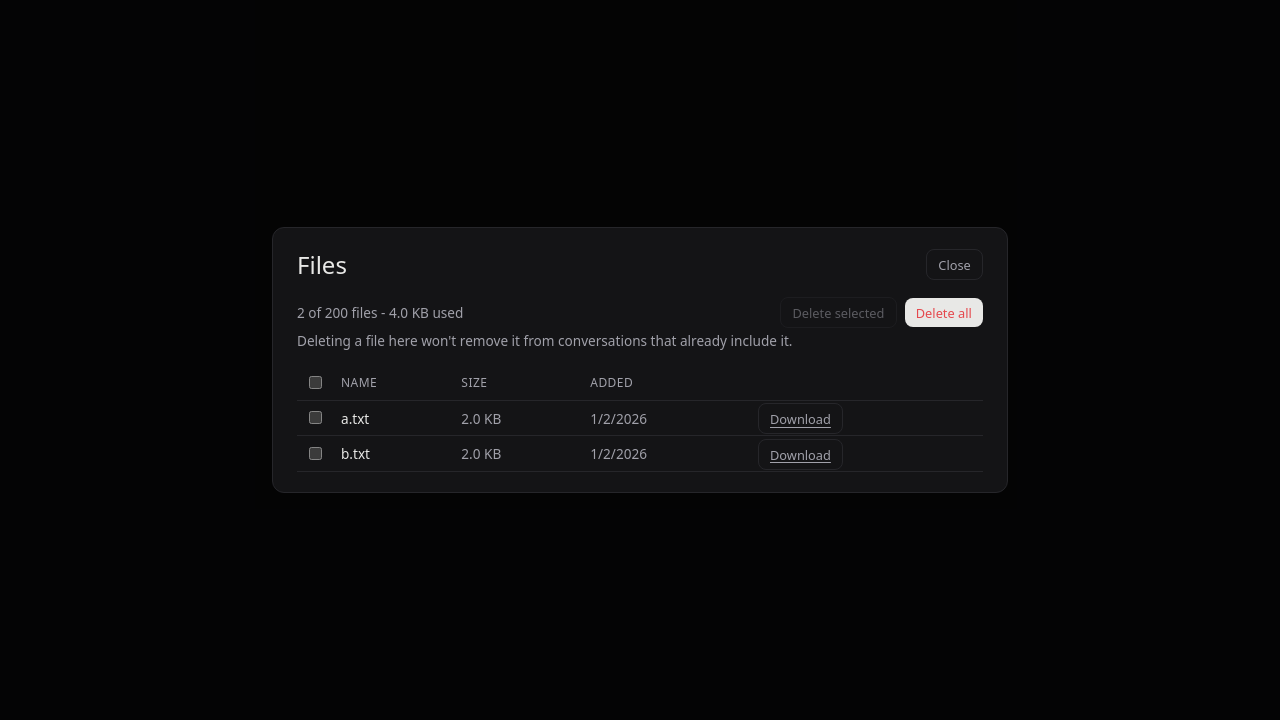
Test case: FilesPanel — delete › select a file + Delete selected removes it (after confirm) and refreshes
The width and height of the screenshot is (1280, 720).
Expected: the text "a.txt" is shown, [333,401,453,436]
Step 1. Click the checkbox named "a.txt" → (316, 418), box [309,411,322,424]
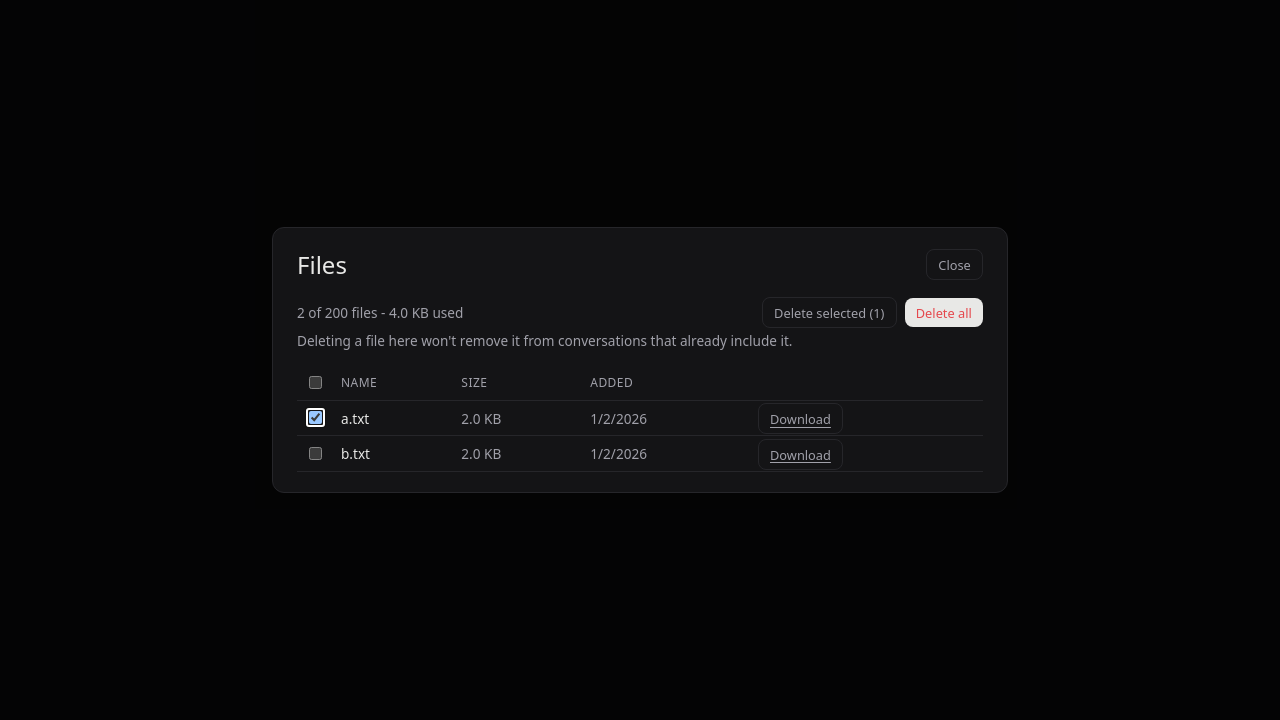
Step 2. Click the button "Delete selected (1)" → (829, 313), box [762,297,897,328]
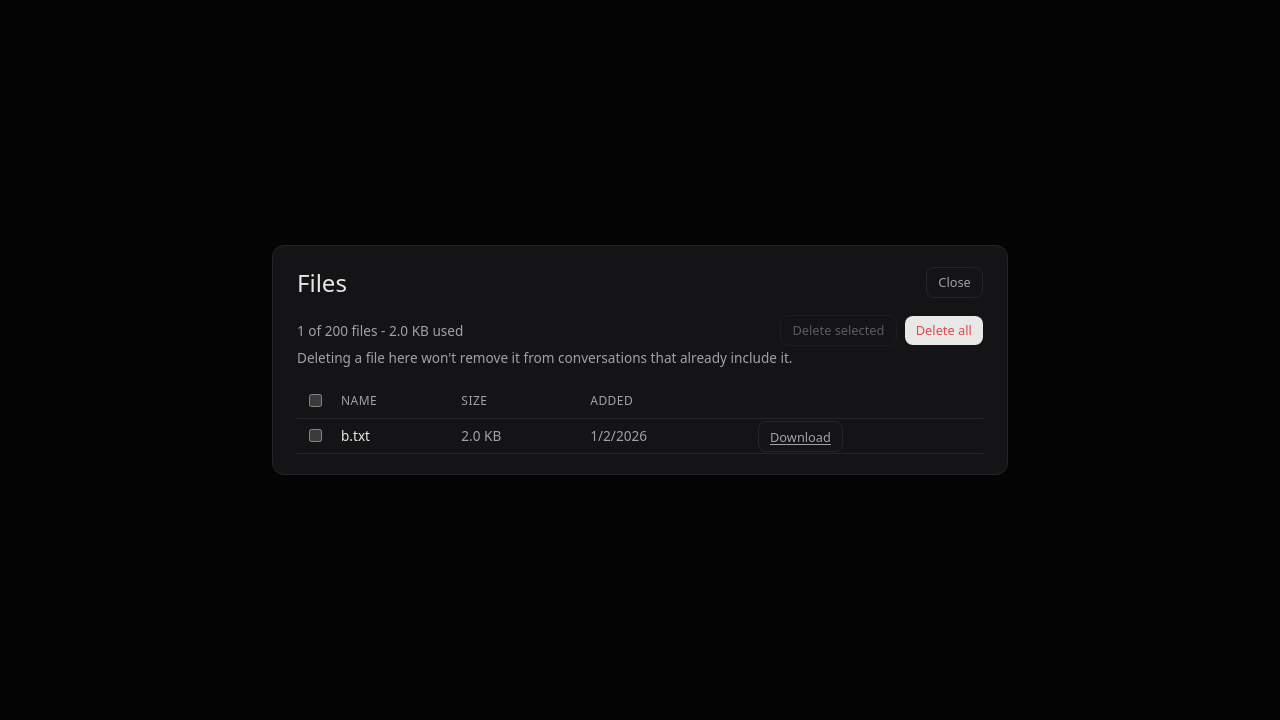
Expected: the text "a.txt" is gone
